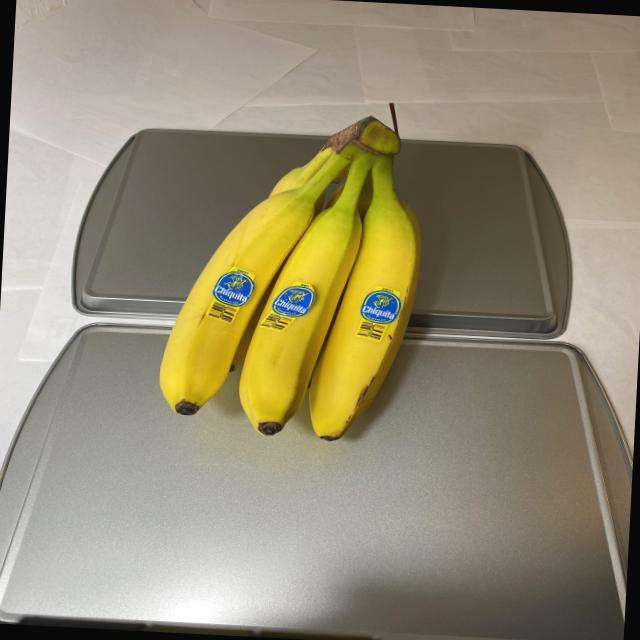banana: (152, 109, 432, 462)
